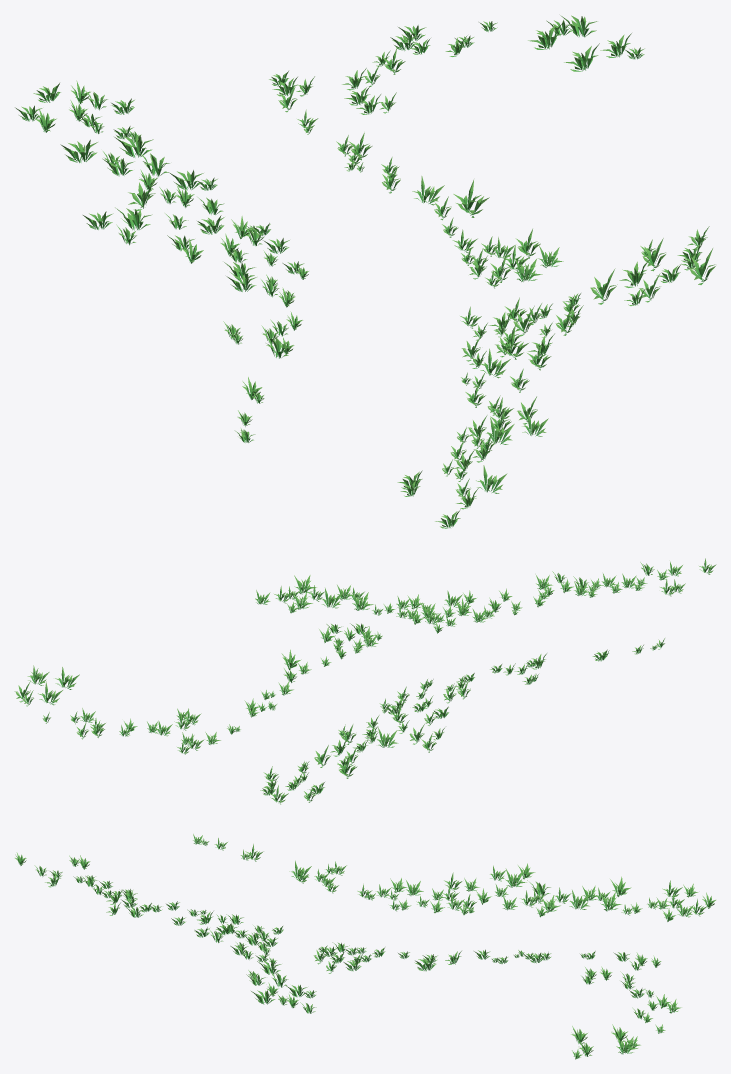
Rendered from Area_13_5.fbx.
3 views of the same model, one above another, from view 1: azimuth 30°, elevation 25°; view 2: azimuth 150°, elevation 25°; view 3: azimuth 270°, elevation 25° (orthographic). The views are drawn at different scales.
Parts seen in each view (by area): view 1: Area_13_5; view 2: Area_13_5; view 3: Area_13_5.
Boxes of the visible parts, x1=… form: Area_13_5: x1=15, y1=15, x2=715, y2=528; Area_13_5: x1=14, y1=558, x2=716, y2=804; Area_13_5: x1=15, y1=834, x2=715, y2=1059.
Bounding box in the file's own units: 2724 × 108 × 3679.
